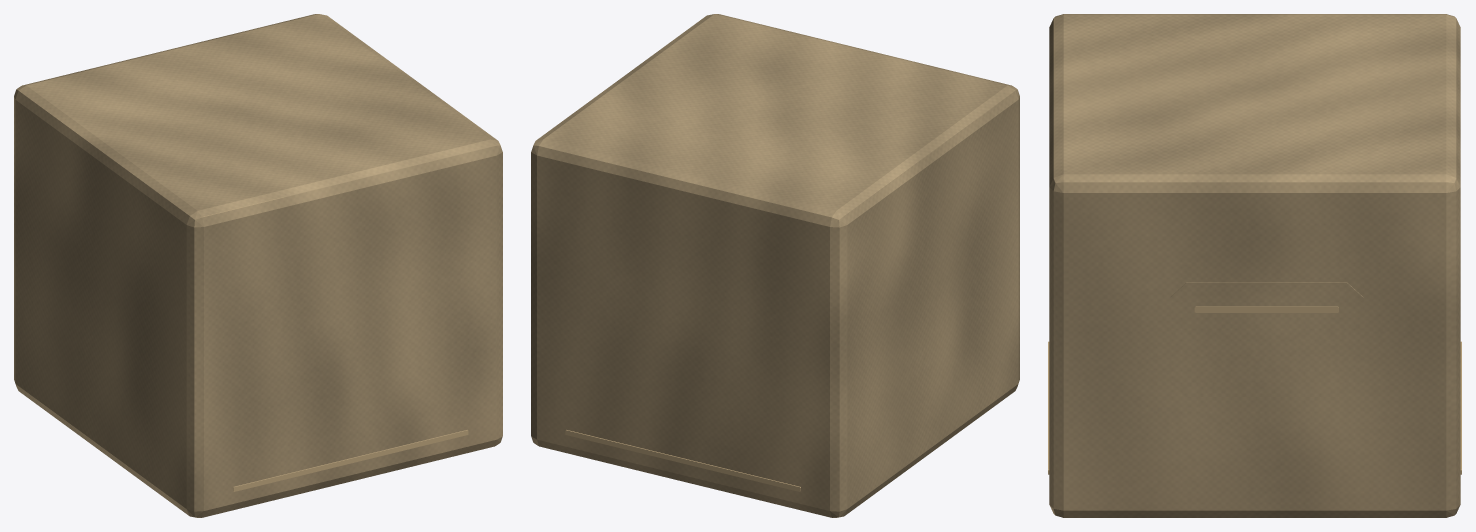
File: 04_Manche_LeftUpperArm.fbx
3 renders of one model, left to right at view 1: azimuth 30°, elevation 25°; view 2: azimuth 150°, elevation 25°; view 3: azimuth 270°, elevation 25°, orthographic. The views are drawn at different scales.
Parts seen in each view (by area): view 1: 04_Manche_LeftUpperArm; view 2: 04_Manche_LeftUpperArm; view 3: 04_Manche_LeftUpperArm.
Part boxes in pixels (x1,y1,x2,y2): 04_Manche_LeftUpperArm: (14,14,502,517); 04_Manche_LeftUpperArm: (531,14,1019,517); 04_Manche_LeftUpperArm: (1048,14,1461,517).
Size of the model in its own units: 1.04 by 0.959 by 1.05.
1 material, 1 textured.
